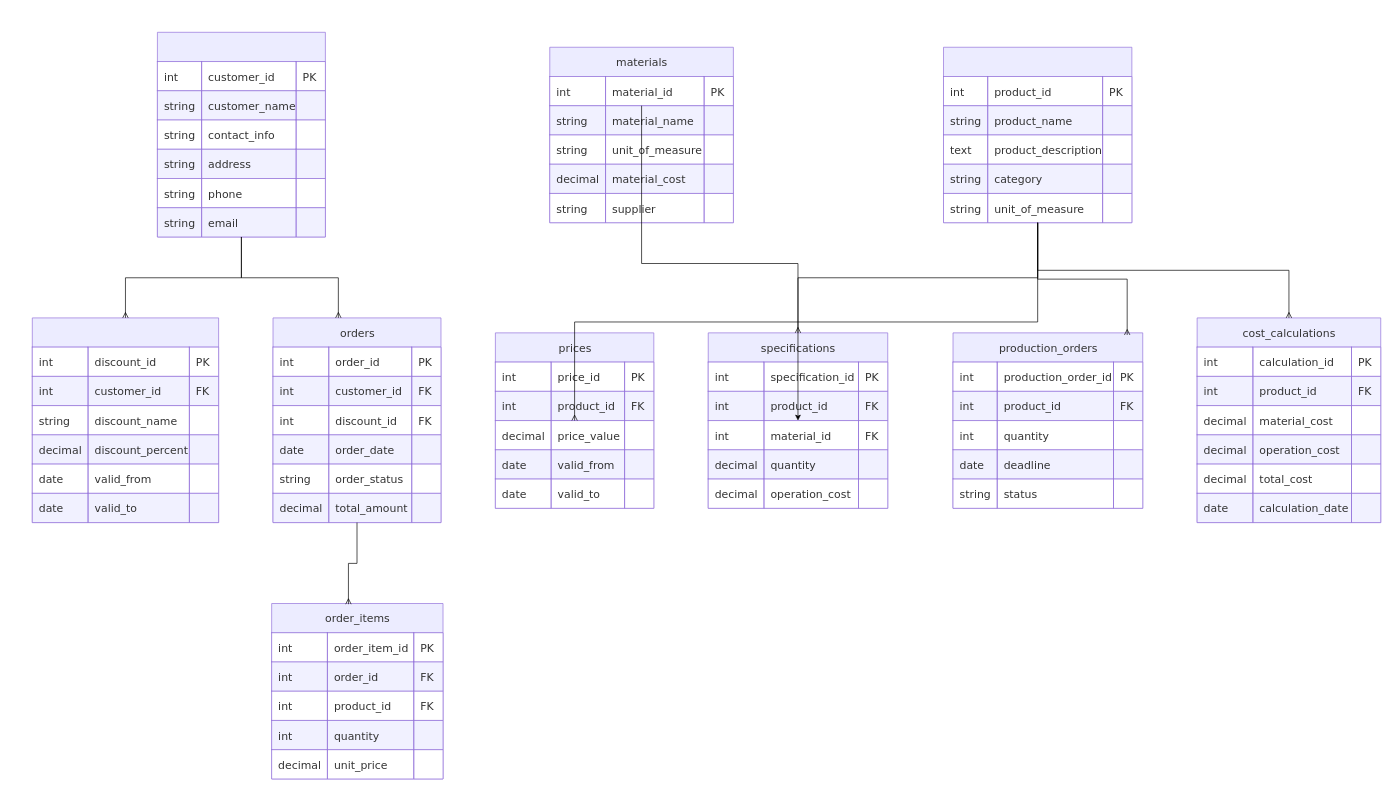
This 1393x791 diagram has some shape labels left out. Here are the shapes that lost their labels. From the top down, the box of each, then its label:
(157, 32, 325, 237): customers
(943, 47, 1132, 223): products
(32, 317, 219, 523): discounts
